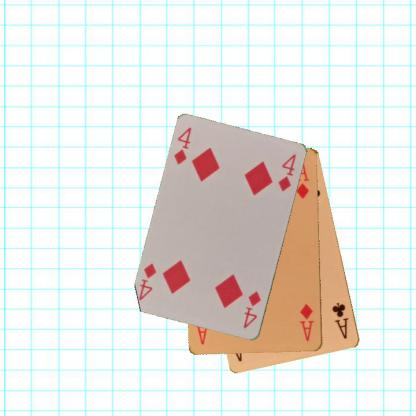4d: (241, 289, 263, 330), (171, 125, 193, 166)
Ac: (329, 300, 350, 340)
Ad: (298, 301, 316, 343)
